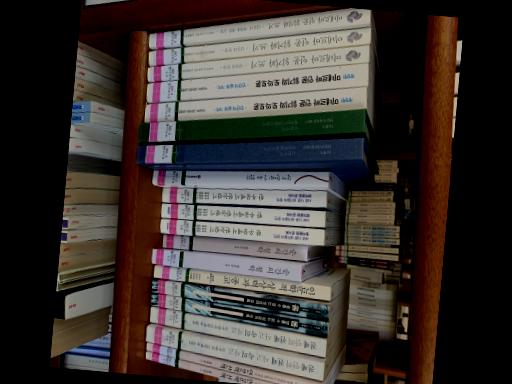book-spine: (144, 326, 322, 381), (147, 7, 369, 48), (148, 26, 369, 66), (148, 307, 324, 357), (145, 63, 366, 102), (136, 108, 364, 143), (150, 293, 327, 338), (146, 45, 367, 81), (143, 87, 365, 121), (150, 279, 328, 321), (145, 343, 315, 384), (152, 265, 330, 300), (135, 138, 362, 163), (150, 249, 300, 281), (159, 218, 323, 245), (145, 351, 278, 384), (160, 203, 324, 227), (161, 234, 306, 260), (160, 187, 325, 206), (151, 170, 328, 186)
